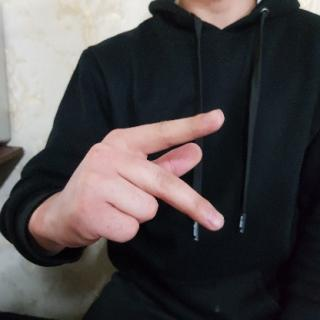DHAA: (56, 104, 242, 258)
